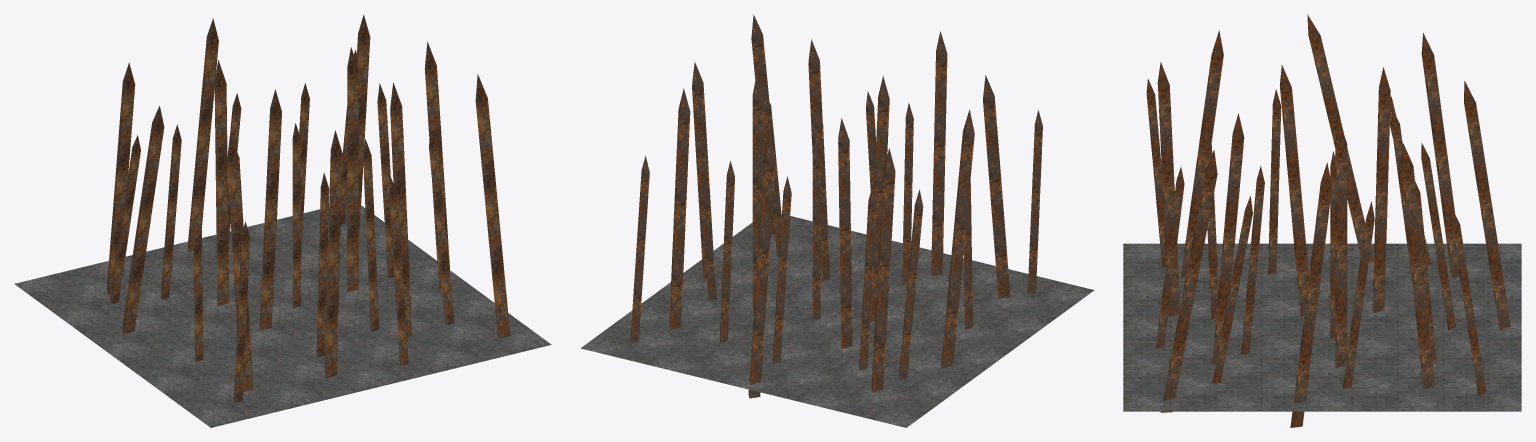
The model's file is spikes.glb.
3 renders of one model, left to right at view 1: azimuth 30°, elevation 25°; view 2: azimuth 150°, elevation 25°; view 3: azimuth 270°, elevation 25°, orthographic. The views are drawn at different scales.
Parts seen in each view (by area): view 1: Plane, Cylinder.007, Cylinder.010, Cylinder.012, Cylinder.003, Cylinder.004, Cylinder.009, Cylinder.002, Cylinder.008, Cylinder.005, Cylinder.001, Cylinder.019 (+14 smaller); view 2: Plane, Cylinder.012, Cylinder.008, Cylinder.002, Cylinder.006, Cylinder.010, Cylinder.001, Cylinder.004, Cylinder.009, Cylinder.003, Cylinder.024, Cylinder.020 (+14 smaller); view 3: Plane, Cylinder.011, Cylinder.007, Cylinder.009, Cylinder.006, Cylinder.008, Cylinder.004, Cylinder.003, Cylinder.002, Cylinder.005, Cylinder.010, Cylinder.001 (+13 smaller).
Part boxes in pixels (x1=…): Plane: x1=14, y1=203, x2=551, y2=427; Cylinder.007: x1=475, y1=74, x2=510, y2=338; Cylinder.010: x1=325, y1=130, x2=342, y2=378; Cylinder.012: x1=122, y1=106, x2=164, y2=334; Cylinder.003: x1=259, y1=89, x2=281, y2=330; Cylinder.004: x1=214, y1=60, x2=229, y2=305; Cylinder.009: x1=347, y1=47, x2=358, y2=292; Cylinder.002: x1=107, y1=62, x2=135, y2=294; Cylinder.008: x1=187, y1=18, x2=218, y2=251; Cylinder.005: x1=390, y1=82, x2=412, y2=337; Cylinder.001: x1=227, y1=133, x2=253, y2=391; Cylinder.019: x1=429, y1=128, x2=454, y2=324; Plane: x1=580, y1=214, x2=1094, y2=427; Cylinder.012: x1=941, y1=109, x2=974, y2=368; Cylinder.008: x1=748, y1=134, x2=775, y2=398; Cylinder.002: x1=871, y1=148, x2=895, y2=392; Cylinder.006: x1=669, y1=88, x2=690, y2=330; Cylinder.010: x1=931, y1=31, x2=947, y2=276; Cylinder.001: x1=983, y1=75, x2=1010, y2=298; Cylinder.004: x1=838, y1=118, x2=852, y2=348; Cylinder.009: x1=752, y1=75, x2=763, y2=309; Cylinder.003: x1=870, y1=76, x2=889, y2=321; Cylinder.024: x1=899, y1=189, x2=923, y2=379; Cylinder.020: x1=772, y1=176, x2=791, y2=363; Plane: x1=1123, y1=243, x2=1521, y2=411; Cylinder.011: x1=1290, y1=162, x2=1331, y2=427; Cylinder.007: x1=1160, y1=149, x2=1217, y2=412; Cylinder.009: x1=1335, y1=120, x2=1347, y2=367; Cylinder.006: x1=1401, y1=143, x2=1434, y2=389; Cylinder.008: x1=1464, y1=81, x2=1510, y2=329; Cylinder.004: x1=1372, y1=67, x2=1390, y2=312; Cylinder.003: x1=1280, y1=65, x2=1308, y2=316; Cylinder.002: x1=1421, y1=33, x2=1459, y2=278; Cylinder.005: x1=1212, y1=113, x2=1244, y2=364; Cylinder.010: x1=1157, y1=62, x2=1180, y2=316; Cylinder.001: x1=1180, y1=30, x2=1223, y2=278.
Size of the model in its own units: 3 by 2.31 by 3.
2 materials, 2 textured.
